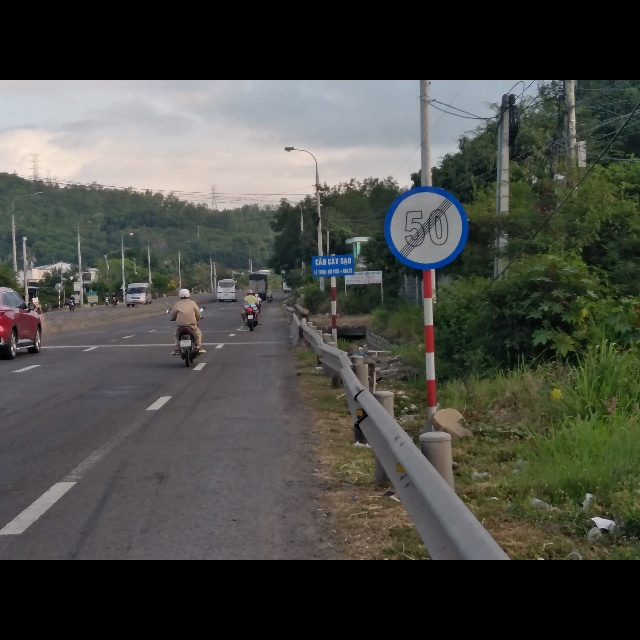Hết hạn chế tốc độ tối đa 50km/h: (383, 184, 470, 272)
